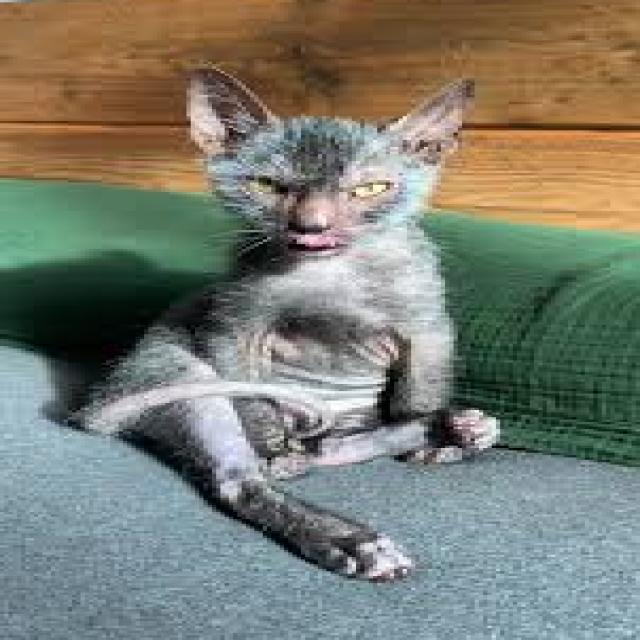Lykoi: (60, 56, 519, 585)
